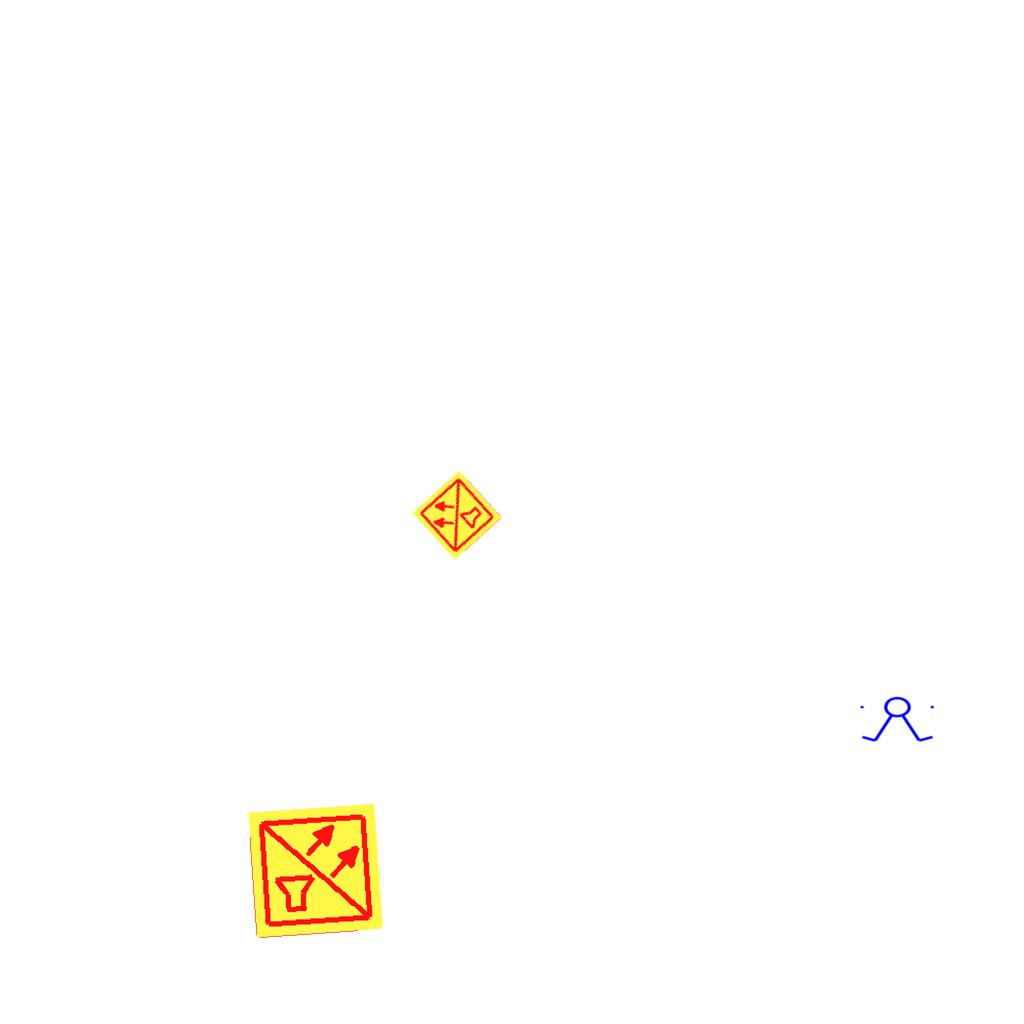OKW_Multisensormelder_(Kombination_optischer_Rauch-Kahlenmonoxid_Waerme-Melder): (245, 800, 387, 942), (410, 468, 504, 562)
Serienschalter: (856, 696, 940, 744)
